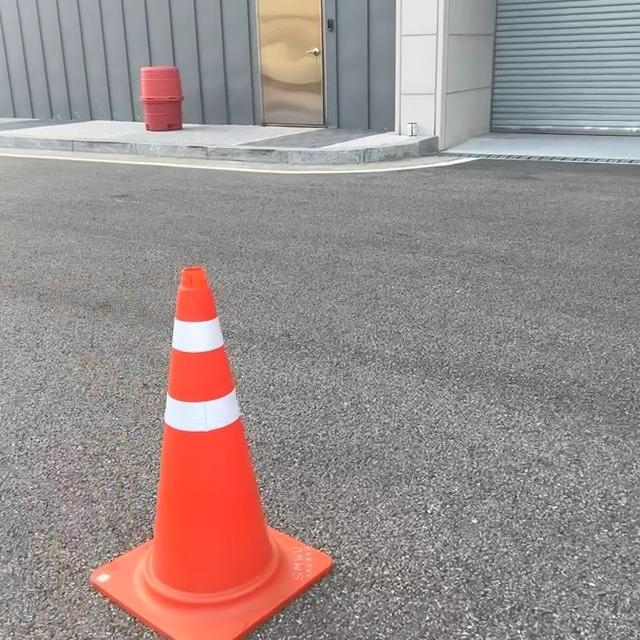fallen_object: (40, 233, 396, 640)
